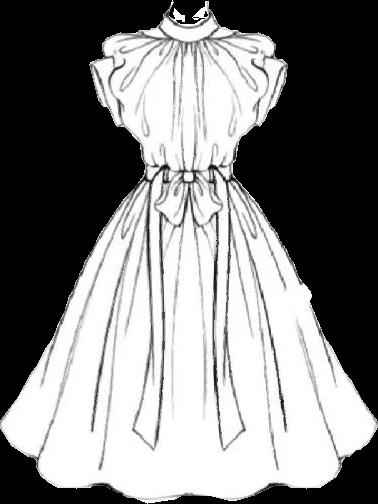Bodice: (89, 14, 287, 173)
Hemline: (0, 419, 377, 503)
Neckline: (155, 25, 220, 46), (162, 12, 215, 29)
Skirt: (0, 164, 377, 502)
Waistline: (144, 161, 233, 177)
